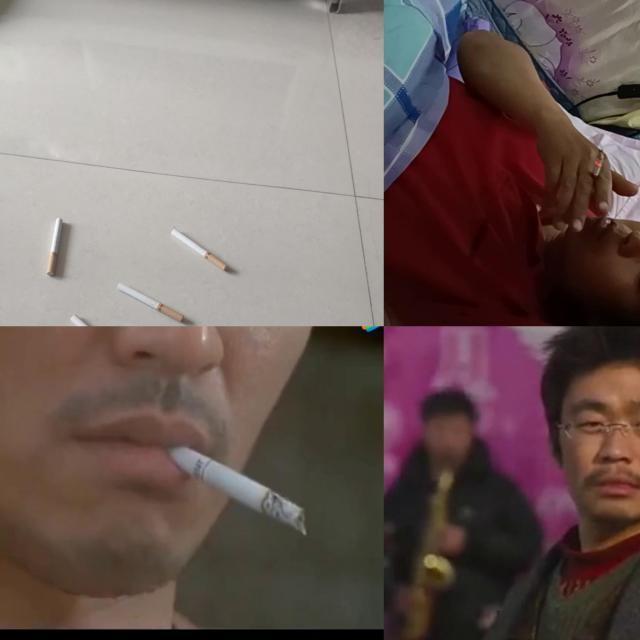cigarette: (168, 442, 312, 538), (117, 282, 185, 322), (170, 229, 228, 271), (48, 218, 64, 276), (70, 314, 131, 326), (590, 149, 606, 194)
